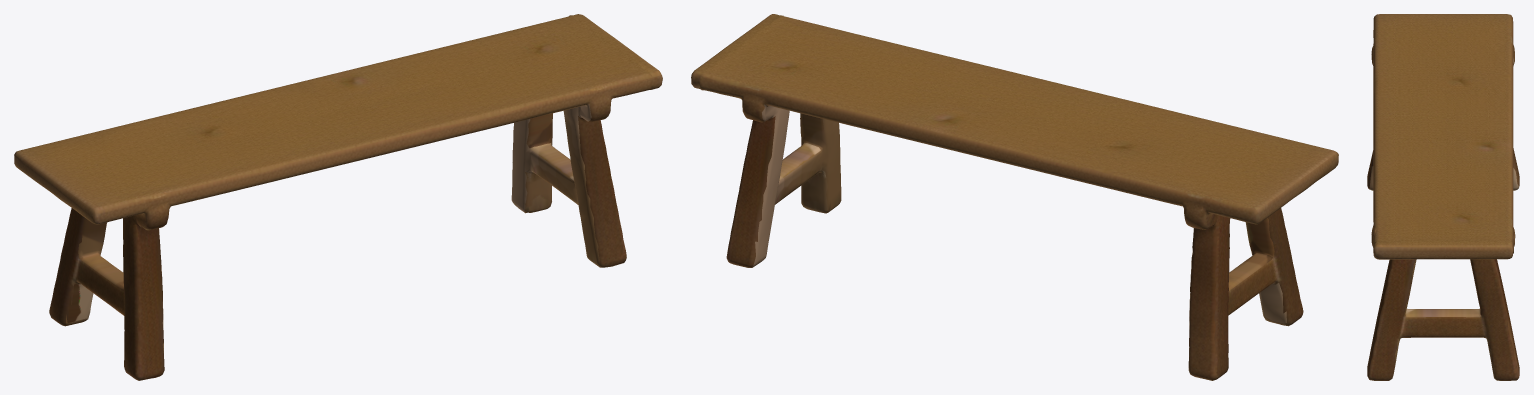
The model's file is banco.glb.
3 views of the same model, side by side, from view 1: azimuth 30°, elevation 25°; view 2: azimuth 150°, elevation 25°; view 3: azimuth 270°, elevation 25° (orthographic). The views are drawn at different scales.
Parts seen in each view (by area): view 1: temp_mesh.ply; view 2: temp_mesh.ply; view 3: temp_mesh.ply.
Boxes of the visible parts, x1=… form: temp_mesh.ply: x1=14, y1=14, x2=662, y2=380; temp_mesh.ply: x1=691, y1=14, x2=1338, y2=380; temp_mesh.ply: x1=1367, y1=14, x2=1519, y2=380.
Bounding box in the file's own units: 2 × 0.6059 × 0.5495.
1 material, 1 textured.
